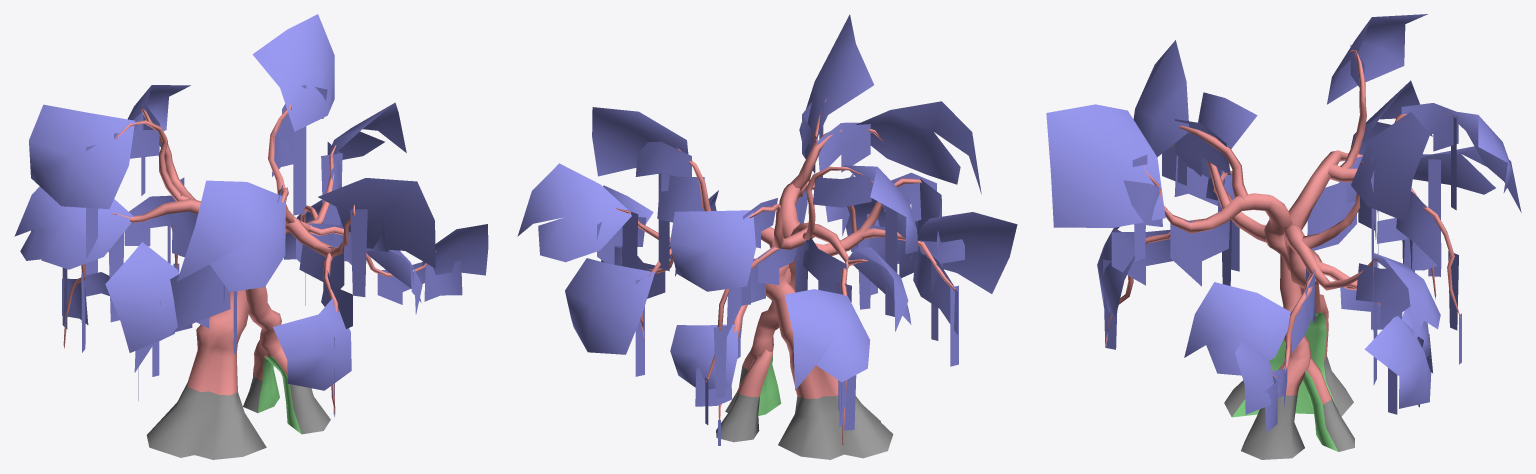
The model's file is Primitive_MDtree001.gltf.
The picture shows the model from 3 angles, left to right: view 1: azimuth 30°, elevation 25°; view 2: azimuth 150°, elevation 25°; view 3: azimuth 270°, elevation 25°; orthographic projection. The views are drawn at different scales.
Visible parts, largest first — view 1: Primitive_MDtree001; view 2: Primitive_MDtree001; view 3: Primitive_MDtree001.
Part boxes in pixels (x1=…): Primitive_MDtree001: x1=14, y1=14, x2=488, y2=459; Primitive_MDtree001: x1=517, y1=14, x2=1017, y2=459; Primitive_MDtree001: x1=1046, y1=14, x2=1521, y2=459.
Size of the model in its own units: 35.86 by 28.36 by 33.94.
